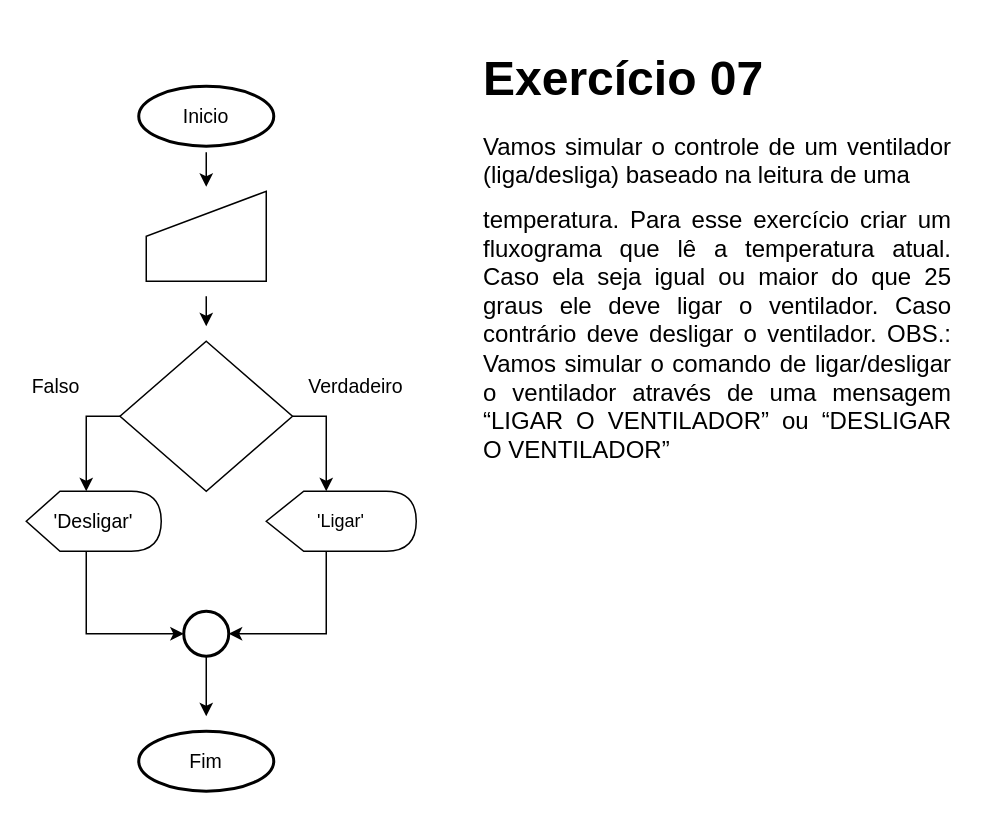
The diagram is 983 pixels wide and 818 high, and some of its shapes have lost their labels. The shapes that lost their labels are listed below. From the top down, each one's box as (x1, y1, x2, y2) in pixels, then its label:
(145, 190, 266, 281): Temperatura (Float)
(118, 340, 292, 491): Tempetarua >= 25
